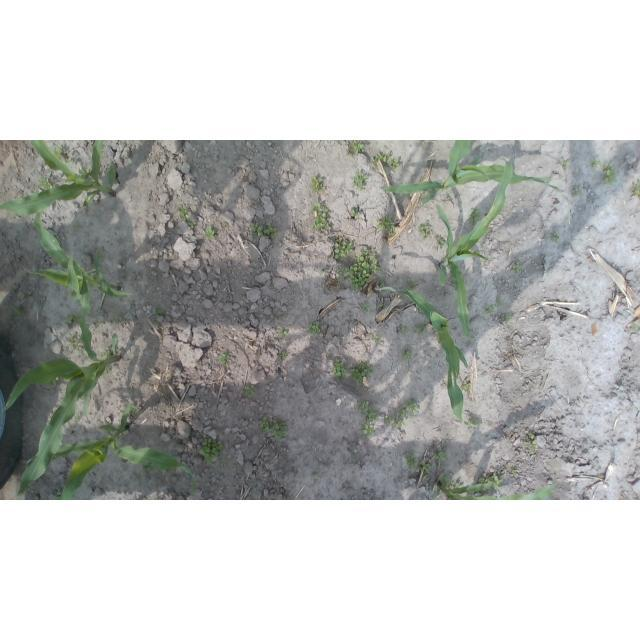Maize: (4, 266, 121, 500), (27, 404, 198, 501), (384, 140, 573, 225), (375, 286, 479, 428), (435, 160, 515, 339), (25, 212, 134, 301), (0, 141, 116, 216), (429, 475, 555, 500)
Weeds: (350, 248, 381, 292), (200, 438, 225, 465), (308, 200, 329, 229), (350, 363, 373, 385), (479, 473, 504, 492), (250, 222, 279, 238), (268, 421, 289, 442), (376, 216, 396, 236), (335, 240, 353, 260), (359, 401, 377, 420), (55, 145, 74, 163), (332, 359, 348, 380), (603, 163, 618, 185), (352, 171, 368, 190), (308, 175, 324, 194), (346, 140, 365, 156), (393, 408, 407, 429), (404, 397, 420, 415), (524, 431, 537, 453), (440, 476, 461, 489), (418, 220, 433, 237), (67, 332, 81, 350), (336, 265, 349, 284), (371, 152, 389, 165), (405, 453, 417, 472), (469, 208, 483, 224), (362, 421, 374, 439), (203, 225, 217, 239), (434, 451, 448, 465), (416, 322, 429, 337), (419, 460, 431, 476), (39, 178, 53, 191), (142, 463, 158, 474), (176, 206, 188, 220), (129, 403, 141, 417), (66, 312, 80, 324), (308, 321, 320, 335), (218, 352, 230, 365), (400, 349, 412, 361), (505, 463, 517, 475), (260, 417, 269, 432), (390, 158, 400, 171), (591, 156, 601, 169), (350, 203, 359, 217), (245, 385, 256, 396), (435, 236, 445, 248), (78, 168, 92, 176), (632, 183, 640, 197), (461, 381, 471, 392), (512, 260, 521, 272), (484, 306, 496, 315), (102, 348, 111, 360), (407, 277, 417, 287), (277, 330, 288, 339), (12, 306, 24, 314), (32, 488, 40, 500), (631, 323, 640, 333), (363, 303, 372, 313), (352, 449, 361, 459), (560, 159, 568, 170), (384, 415, 393, 424), (552, 233, 560, 243), (500, 316, 513, 322), (373, 336, 384, 343), (56, 489, 63, 500), (102, 368, 111, 376), (71, 223, 80, 231), (220, 460, 228, 469), (156, 307, 163, 317), (471, 418, 479, 426), (188, 220, 196, 228), (572, 188, 580, 196), (280, 352, 288, 360), (53, 378, 60, 386), (498, 300, 505, 308), (401, 326, 408, 334), (312, 473, 320, 480), (435, 336, 441, 344), (114, 316, 120, 324), (377, 304, 383, 311), (325, 351, 331, 357), (37, 189, 44, 194), (80, 394, 85, 401), (380, 281, 385, 288), (446, 193, 451, 200), (273, 312, 279, 317), (320, 270, 325, 275), (76, 416, 81, 421)
